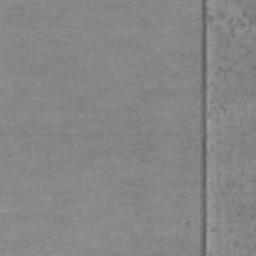Welding line: (198, 0, 210, 256)
